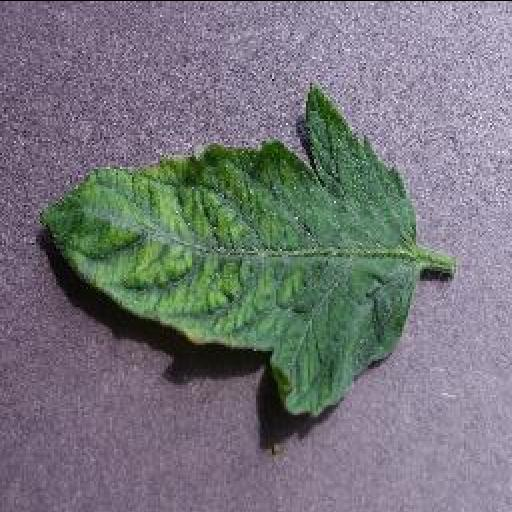disease_tomato: (36, 85, 418, 419)
